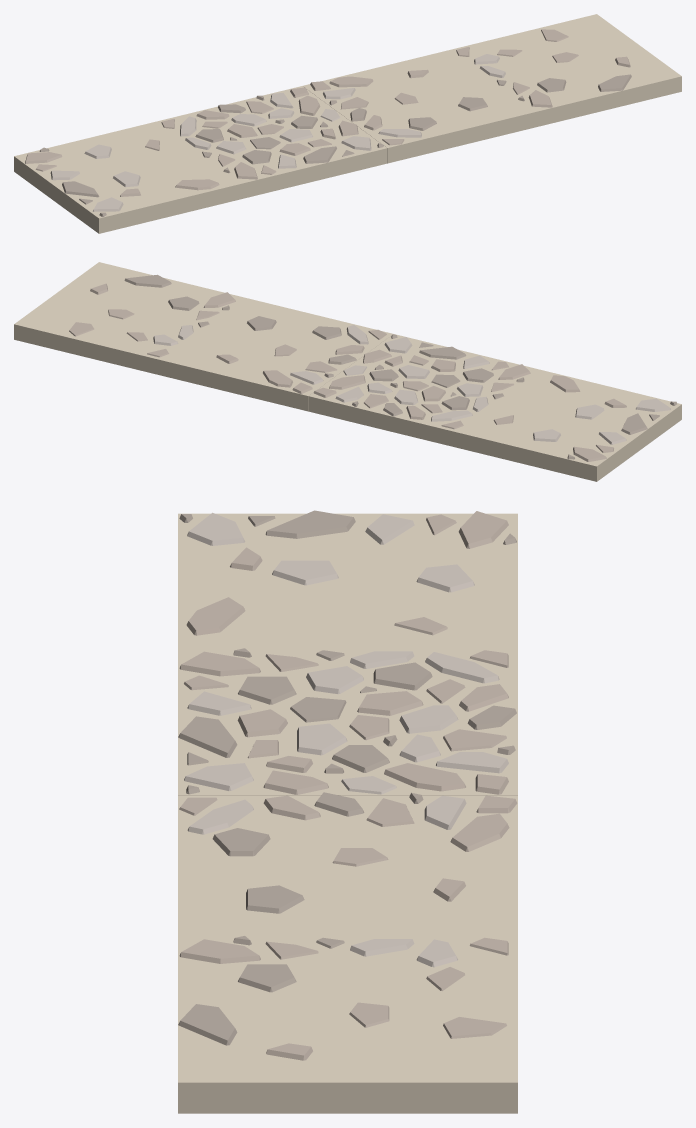
The model's file is strada.glb.
The picture shows the model from 3 angles, top to bottom: view 1: azimuth 30°, elevation 25°; view 2: azimuth 150°, elevation 25°; view 3: azimuth 270°, elevation 25°; orthographic projection. The views are drawn at different scales.
Parts seen in each view (by area): view 1: object1_object1.020, object1_object1.019, object1_object1.021, object1_object1.022; view 2: object1_object1.020, object1_object1.019, object1_object1.021, object1_object1.022; view 3: object1_object1.021, object1_object1.019, object1_object1.022, object1_object1.020.
Boxes of the visible parts, x1,y1,x2,y2 form: object1_object1.020: [14, 120, 246, 233]; object1_object1.019: [303, 50, 534, 163]; object1_object1.021: [450, 14, 681, 127]; object1_object1.022: [155, 86, 387, 199]; object1_object1.020: [449, 369, 681, 481]; object1_object1.019: [161, 298, 392, 411]; object1_object1.021: [14, 262, 245, 375]; object1_object1.022: [308, 334, 537, 445]; object1_object1.021: [178, 936, 517, 1113]; object1_object1.019: [178, 792, 517, 938]; object1_object1.022: [178, 648, 517, 795]; object1_object1.020: [178, 510, 517, 657].
Size of the model in its own units: 7.91 by 0.2281 by 2.
